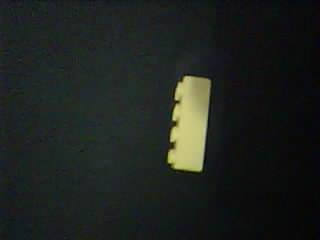lego: (166, 73, 212, 173)
